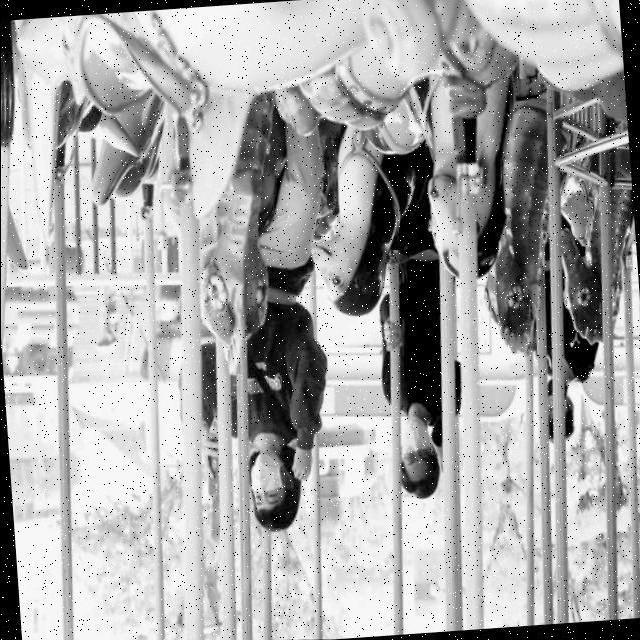mask: (247, 451, 294, 492), (397, 412, 442, 454)
no_gloves: (246, 493, 308, 534), (401, 458, 447, 499)
